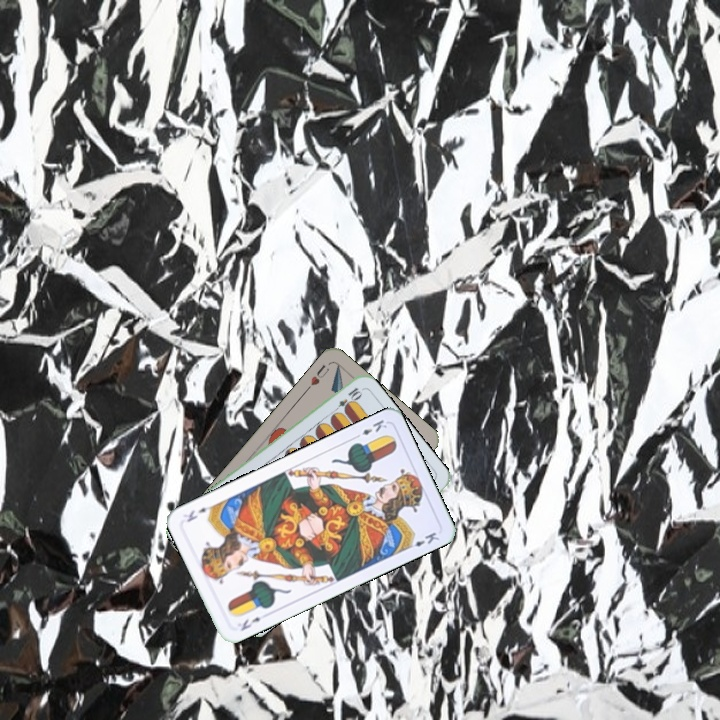E10: (329, 383, 364, 416)
EK: (350, 415, 390, 442), (236, 613, 263, 634)
HU: (302, 360, 332, 393)
